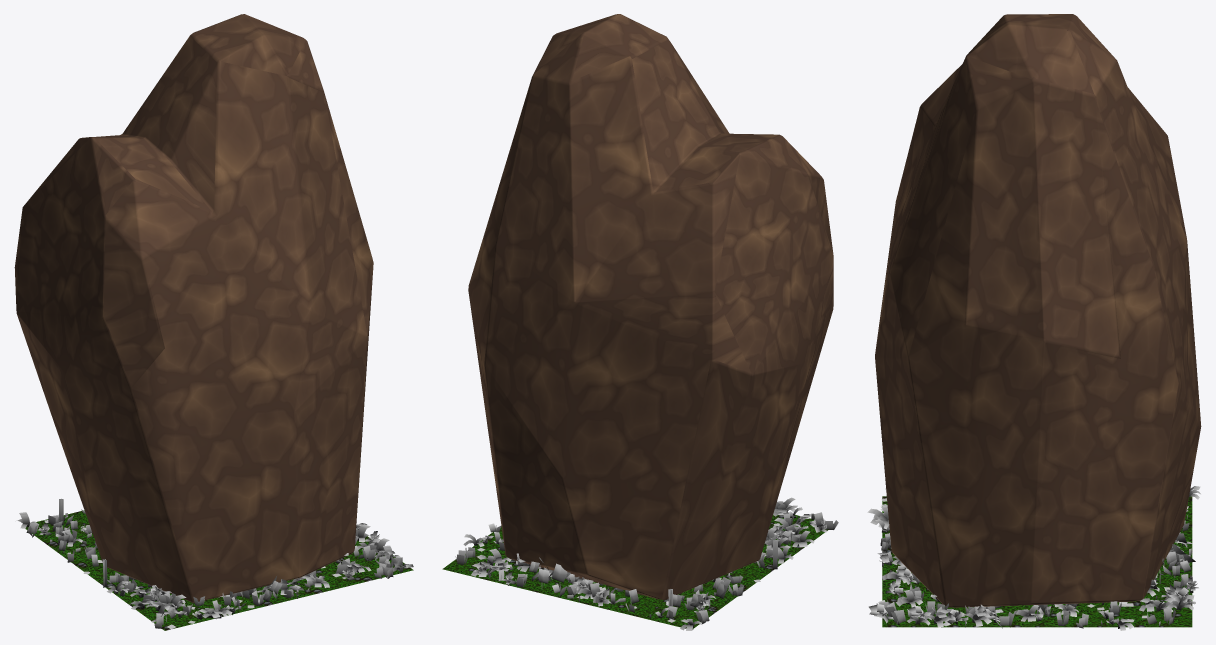
The model's file is TallRock.fbx.
The picture shows the model from 3 angles, left to right: view 1: azimuth 30°, elevation 25°; view 2: azimuth 150°, elevation 25°; view 3: azimuth 270°, elevation 25°; orthographic projection. The views are drawn at different scales.
Parts seen in each view (by area): view 1: TallRock, SmallRockGrass.001; view 2: TallRock, SmallRockGrass.001; view 3: TallRock, SmallRockGrass.001.
Boxes of the visible parts, x1=… form: TallRock: x1=14, y1=14, x2=373, y2=602; SmallRockGrass.001: x1=17, y1=498, x2=413, y2=630; TallRock: x1=468, y1=14, x2=833, y2=599; SmallRockGrass.001: x1=442, y1=497, x2=838, y2=630; TallRock: x1=875, y1=14, x2=1201, y2=607; SmallRockGrass.001: x1=867, y1=486, x2=1200, y2=630.
Size of the model in its own units: 6.04 by 9.91 by 5.39.
